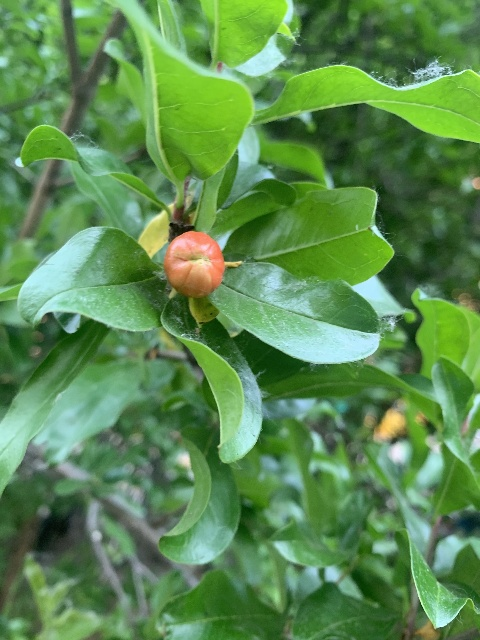bud: (163, 230, 225, 299)
